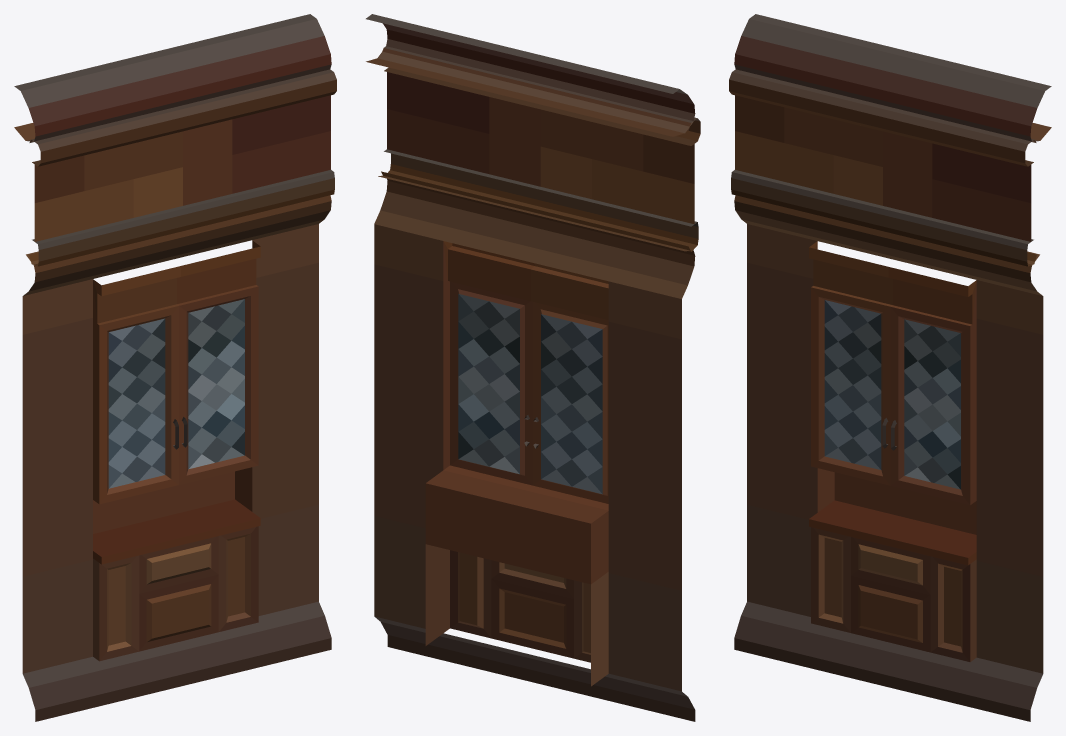
File: Wall_HomeA-PanelE-2m.fbx
3 views of the same model, side by side, from view 1: azimuth 30°, elevation 25°; view 2: azimuth 150°, elevation 25°; view 3: azimuth 330°, elevation 25° (orthographic). The views are drawn at different scales.
Parts seen in each view (by area): view 1: Wall_HomeA-PanelE-2m; view 2: Wall_HomeA-PanelE-2m; view 3: Wall_HomeA-PanelE-2m.
Part boxes in pixels (x1,y1,x2,y2): Wall_HomeA-PanelE-2m: (14, 14, 336, 721); Wall_HomeA-PanelE-2m: (366, 14, 700, 721); Wall_HomeA-PanelE-2m: (729, 14, 1051, 721).
Size of the model in its own units: 200 by 400 by 41.15.
